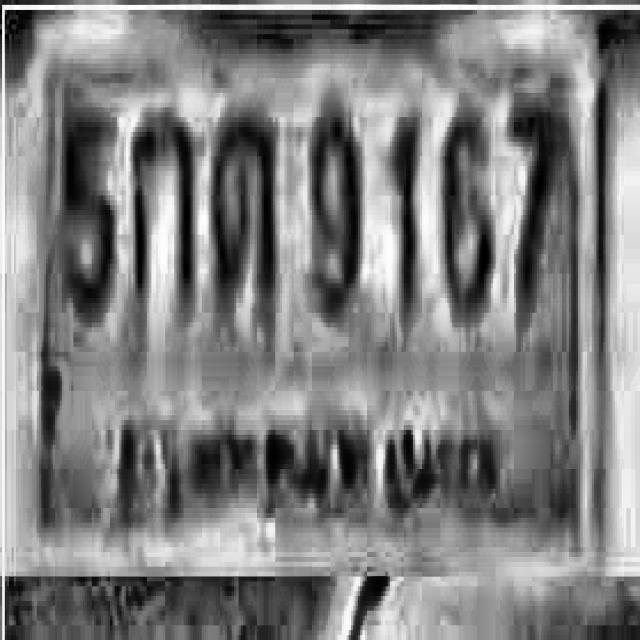license-plate: (6, 2, 640, 591)
